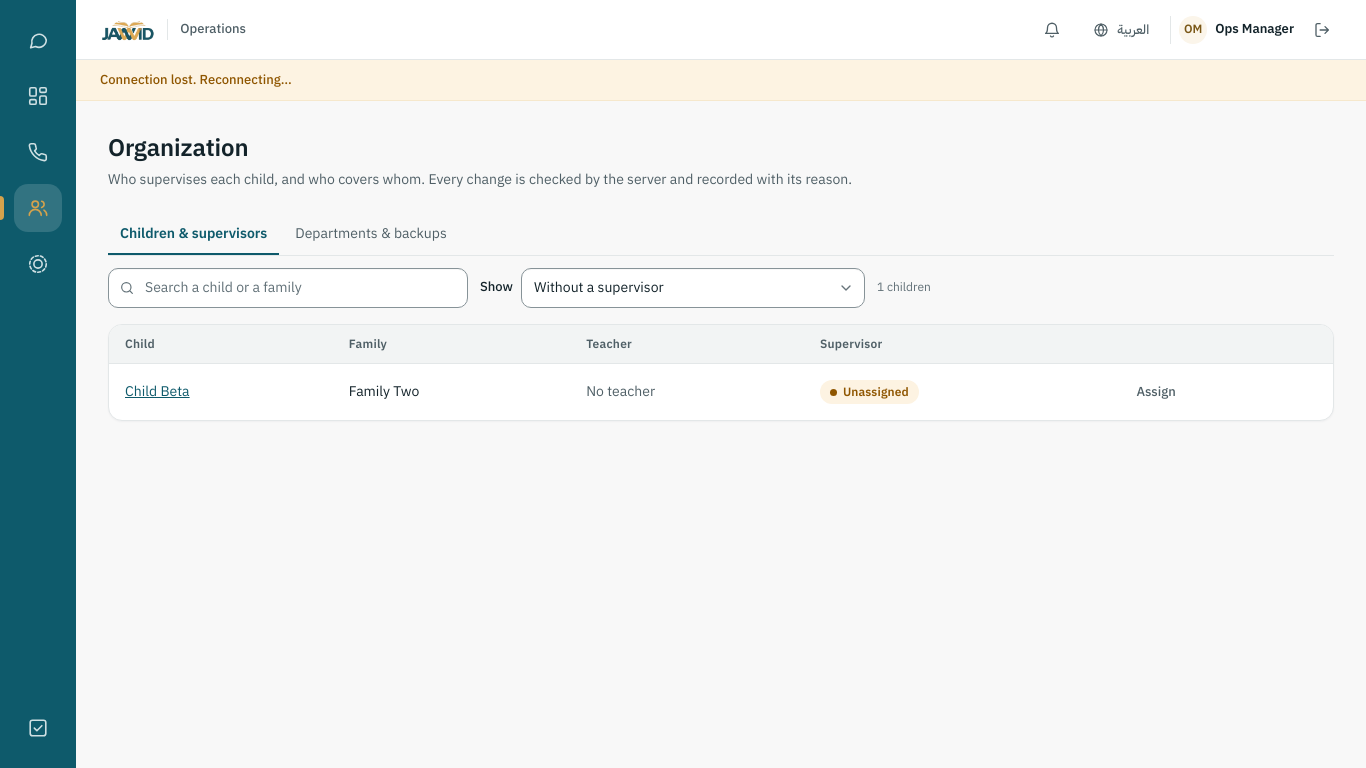
Test: children and their supervisors › opens on the filter the URL names, so a Dashboard tile opens the list it counted (PD-44)
The width and height of the screenshot is (1366, 768).
Expected: the link "Child Beta" is shown, [125,381,190,402]
Expected: the text "Child Alpha" is not shown
Click the dropdown labelled "Show": [693, 288] box [521,268,865,308]
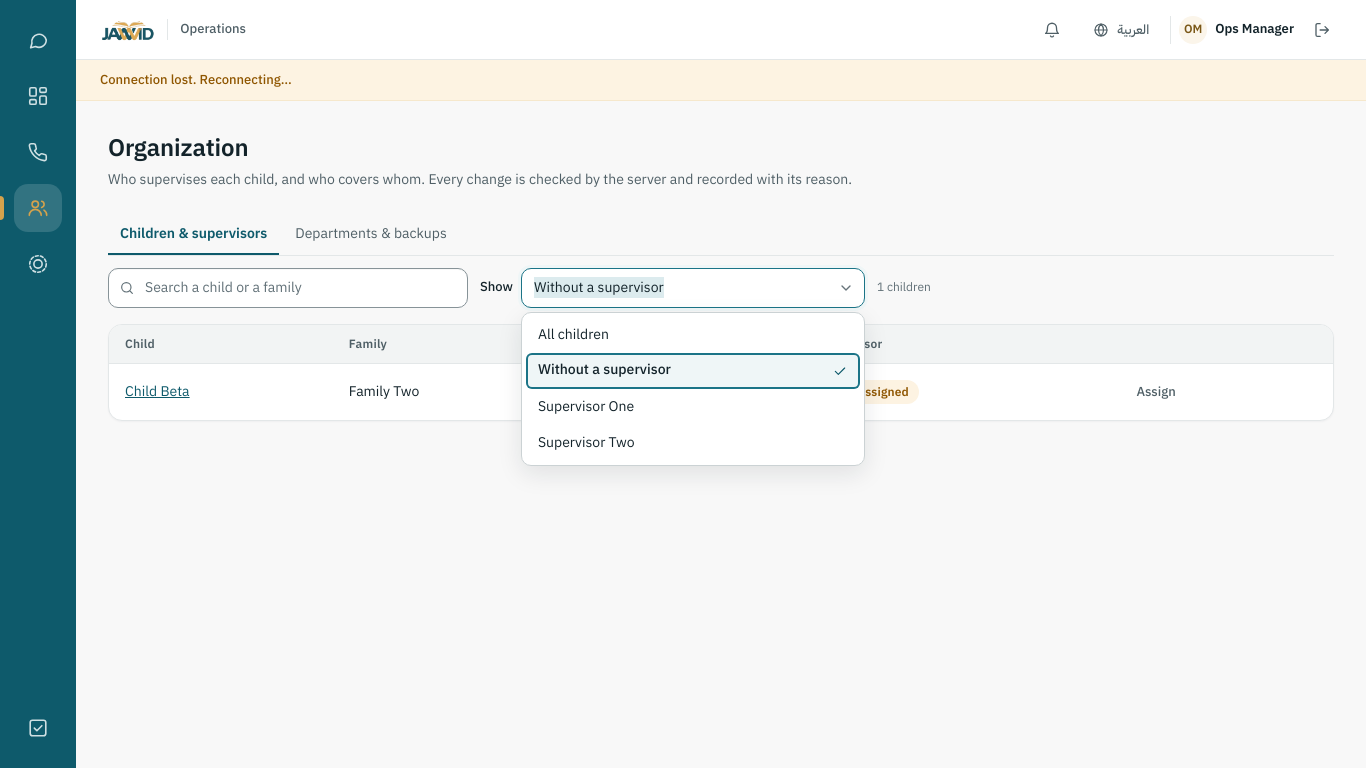
Click the option "All children": [574, 334] box [538,324,609,345]
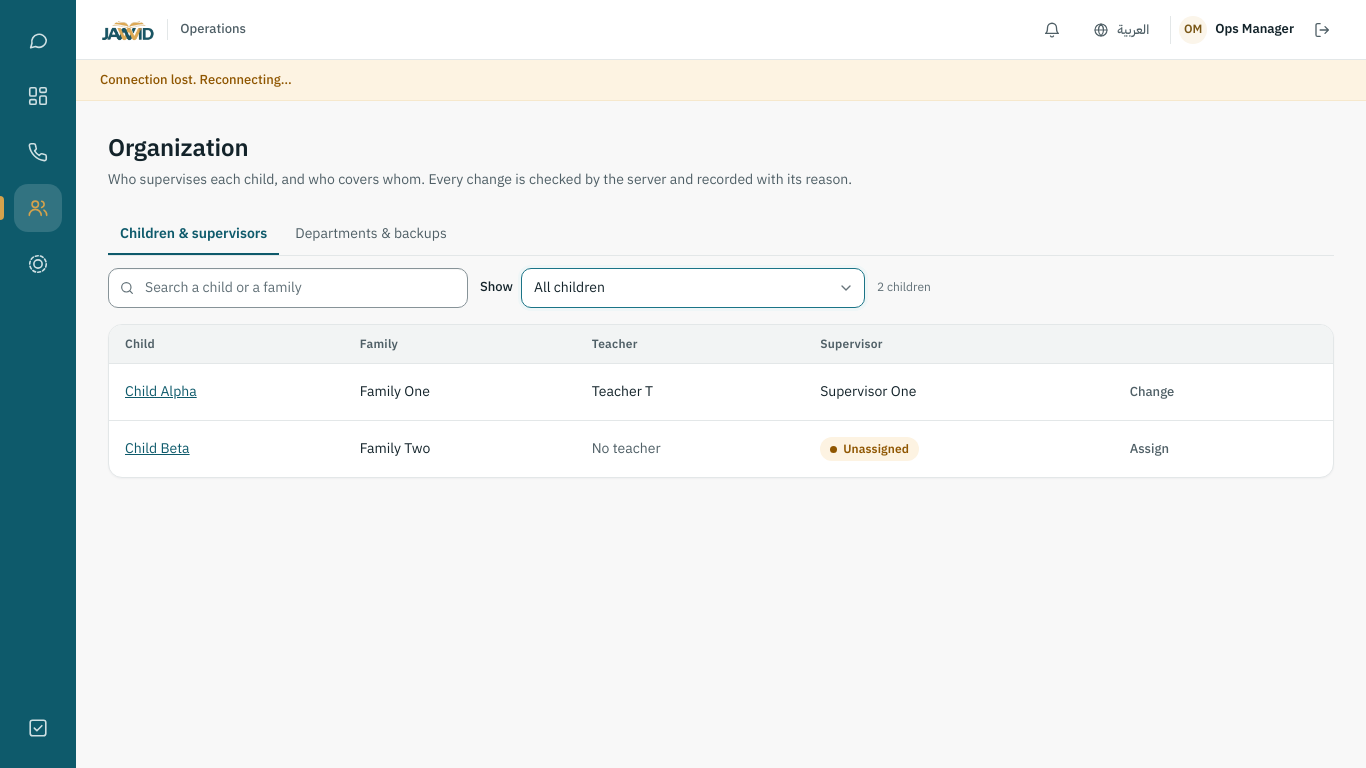
Result: the link "Child Alpha" is shown at [125,381,197,402]
